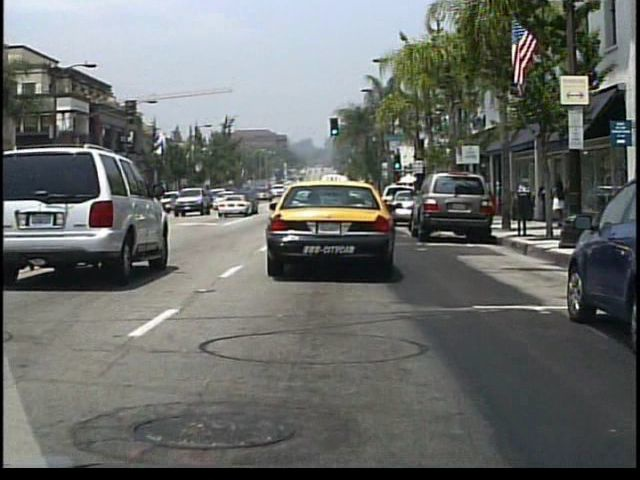person: (566, 172, 586, 228), (536, 177, 554, 227), (554, 173, 567, 224)
